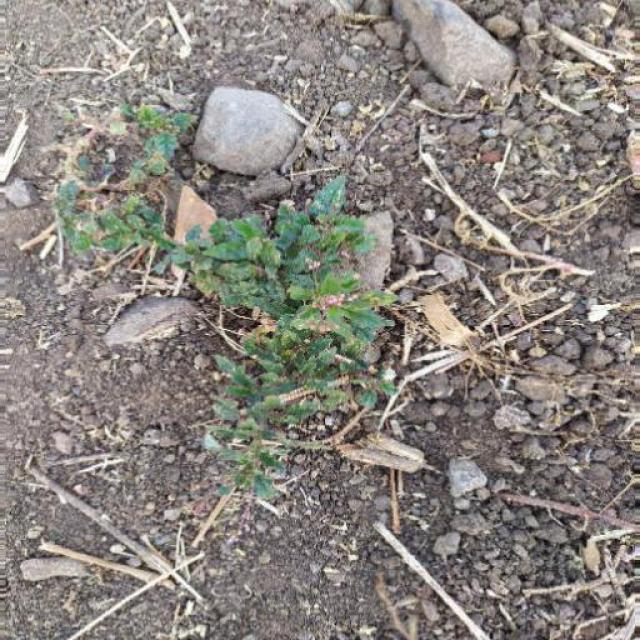weed: (45, 90, 436, 505)
